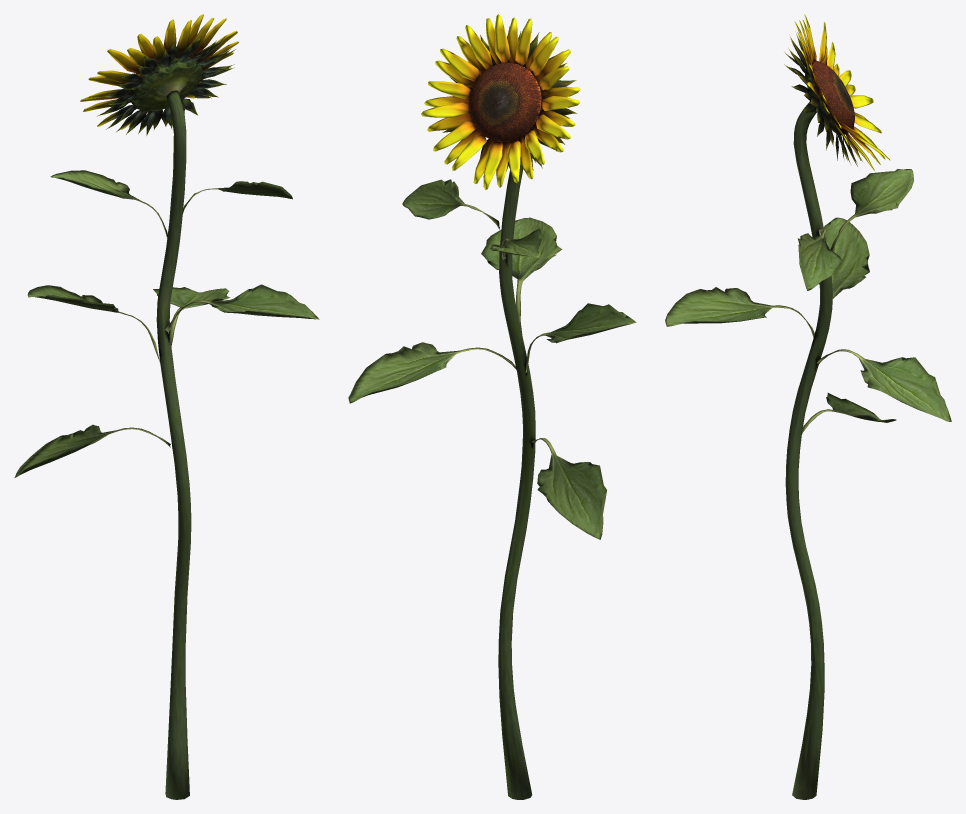
Rendered from Girasole01.fbx.
The picture shows the model from 3 angles, left to right: view 1: azimuth 30°, elevation 25°; view 2: azimuth 150°, elevation 25°; view 3: azimuth 270°, elevation 25°; orthographic projection.
Parts seen in each view (by area): view 1: Girasole01; view 2: Girasole01; view 3: Girasole01.
Boxes of the visible parts, x1,y1,x2,y2 form: Girasole01: (14,14,319,799); Girasole01: (348,14,636,799); Girasole01: (665,14,951,799).
Size of the model in its own units: 29.44 by 87.71 by 29.54.
